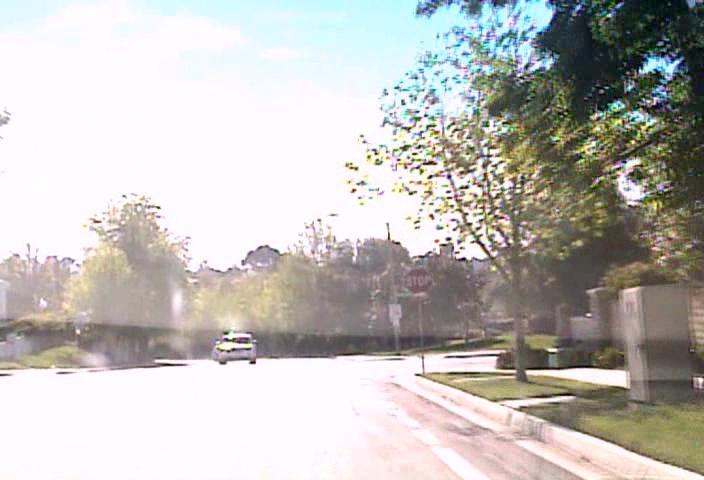stop: (402, 266, 432, 294)
